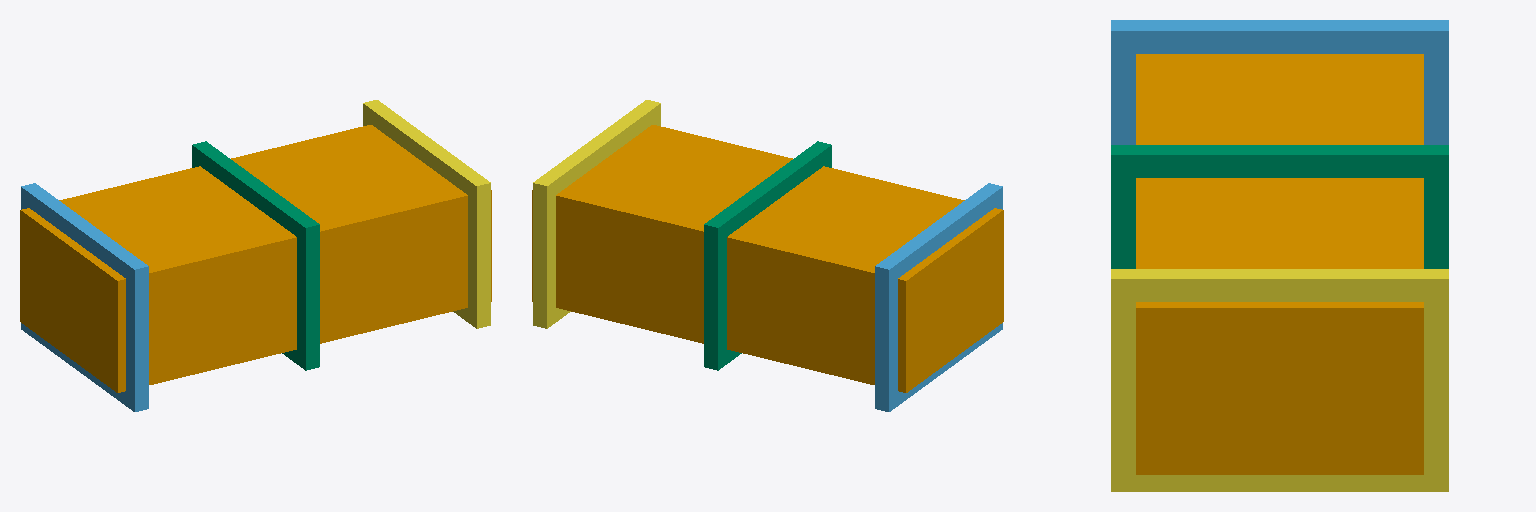
The robot description file, URDF, robot "debris006":
<?xml version="1.0" ?>
<robot name="debris006">

<link name="debris006">
<visual> <origin xyz="0 0 0" rpy="0 0 0" />
<geometry> <box size="1.29 0.58 0.37"/> </geometry>
</visual>
<collision> <origin xyz="0 0 0" rpy="0 0 0" />
<geometry> <box size="1.29 0.58 0.37"/> </geometry>
</collision>
<inertial> <origin xyz="0 0 0" rpy="0 0 0" />
<mass value="10.0" />
<inertia ixx="0.9217" ixy="0" ixz="0" iyy="0.9217" iyz="0" izz="0.9217" />
</inertial>
</link>
<gazebo reference="debris006"> <material>Gazebo/WoodPallet</material> </gazebo>

<link name="debris0060">
<visual> <origin xyz="-0.59 0 0" rpy="0 0 0" />
<geometry> <box size="0.05 0.68 0.47"/> </geometry>
</visual>
<collision> <origin xyz="-0.59 0 0" rpy="0 0 0" />
<geometry> <box size="0.05 0.68 0.47"/> </geometry>
</collision>
<inertial> <origin xyz="0 0 0" rpy="0 0 0" />
<mass value="0.1" />
<inertia ixx="0.0100" ixy="0" ixz="0" iyy="0.0100" iyz="0" izz="0.0100" />
</inertial>
</link>
<gazebo reference="debris0060"> <material>Gazebo/WoodPallet</material> </gazebo>

<joint name="debris0060joint" type="fixed">
<parent link="debris006"/>
<child link="debris0060"/>
<origin xyz="0 0 0" rpy="0 0 0" />
</joint>

<link name="debris0061">
<visual> <origin xyz="0.00 0 0" rpy="0 0 0" />
<geometry> <box size="0.05 0.68 0.47"/> </geometry>
</visual>
<collision> <origin xyz="0.00 0 0" rpy="0 0 0" />
<geometry> <box size="0.05 0.68 0.47"/> </geometry>
</collision>
<inertial> <origin xyz="0 0 0" rpy="0 0 0" />
<mass value="0.1" />
<inertia ixx="0.0100" ixy="0" ixz="0" iyy="0.0100" iyz="0" izz="0.0100" />
</inertial>
</link>
<gazebo reference="debris0061"> <material>Gazebo/WoodPallet</material> </gazebo>

<joint name="debris0061joint" type="fixed">
<parent link="debris006"/>
<child link="debris0061"/>
<origin xyz="0 0 0" rpy="0 0 0" />
</joint>

<link name="debris0062">
<visual> <origin xyz="0.59 0 0" rpy="0 0 0" />
<geometry> <box size="0.05 0.68 0.47"/> </geometry>
</visual>
<collision> <origin xyz="0.59 0 0" rpy="0 0 0" />
<geometry> <box size="0.05 0.68 0.47"/> </geometry>
</collision>
<inertial> <origin xyz="0 0 0" rpy="0 0 0" />
<mass value="0.1" />
<inertia ixx="0.0100" ixy="0" ixz="0" iyy="0.0100" iyz="0" izz="0.0100" />
</inertial>
</link>
<gazebo reference="debris0062"> <material>Gazebo/WoodPallet</material> </gazebo>

<joint name="debris0062joint" type="fixed">
<parent link="debris006"/>
<child link="debris0062"/>
<origin xyz="0 0 0" rpy="0 0 0" />
</joint>

</robot>

--- What the picture shows (computed from the rendered views, not written in the file) ---
3 views of the same robot in one strip: view 1: azimuth 30°, elevation 25°; view 2: azimuth 150°, elevation 25°; view 3: azimuth 270°, elevation 25° (orthographic).
Model debris006 with 4 links and 3 joints (3 fixed), rooted at debris006, posed every joint at zero.
Links seen in each view (by area): view 1: debris006, debris0060, debris0062, debris0061; view 2: debris006, debris0060, debris0062, debris0061; view 3: debris006, debris0062, debris0060, debris0061.
Boxes of the visible links, x1,y1,x2,y2 form: debris006: [20, 125, 491, 392]; debris0060: [21, 183, 148, 411]; debris0062: [363, 100, 490, 328]; debris0061: [192, 141, 319, 370]; debris006: [532, 125, 1003, 392]; debris0060: [875, 183, 1002, 411]; debris0062: [533, 100, 660, 328]; debris0061: [704, 141, 831, 370]; debris006: [1136, 54, 1423, 474]; debris0062: [1111, 269, 1448, 491]; debris0060: [1111, 20, 1448, 144]; debris0061: [1111, 145, 1448, 268].
Size in the robot's own frame: 1.29 by 0.68 by 0.47 metres.
Geometry: primitives only (box / cylinder / sphere), no mesh files.
